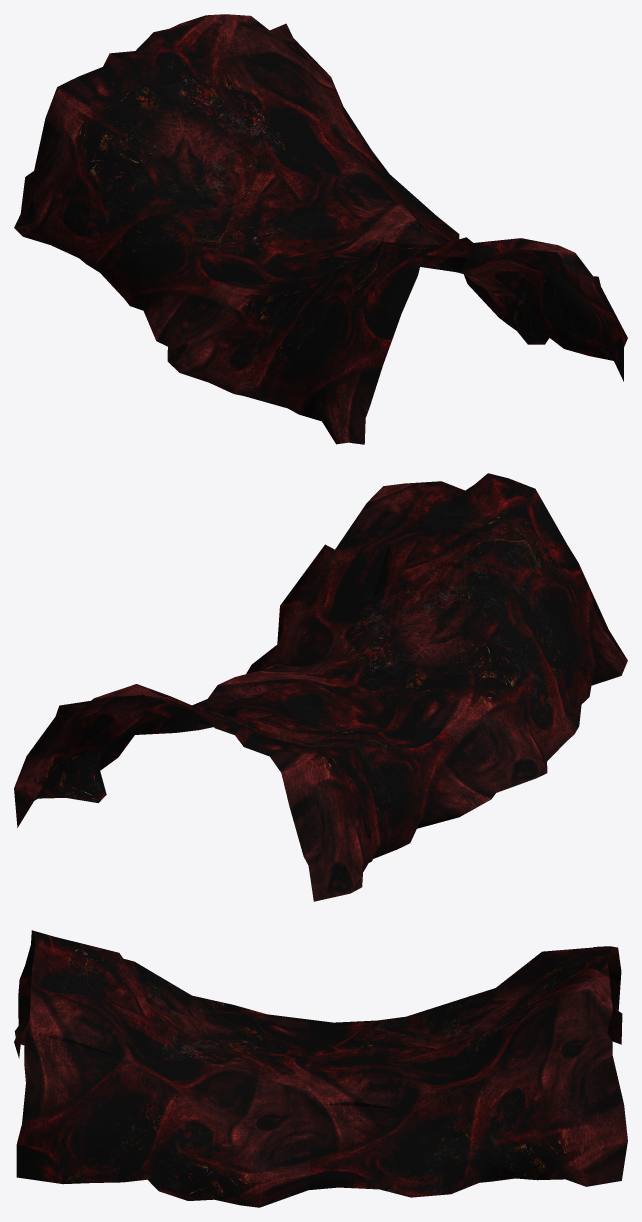
Rendered from Bump01.FBX.
The picture shows the model from 3 angles, top to bottom: view 1: azimuth 30°, elevation 25°; view 2: azimuth 150°, elevation 25°; view 3: azimuth 270°, elevation 25°; orthographic projection. The views are drawn at different scales.
Parts seen in each view (by area): view 1: Bump01; view 2: Bump01; view 3: Bump01.
Part boxes in pixels (x1,y1,x2,y2): Bump01: [14, 14, 627, 444]; Bump01: [14, 473, 627, 901]; Bump01: [14, 930, 627, 1207].
Bounding box in the file's own units: 354 × 196 × 565.
